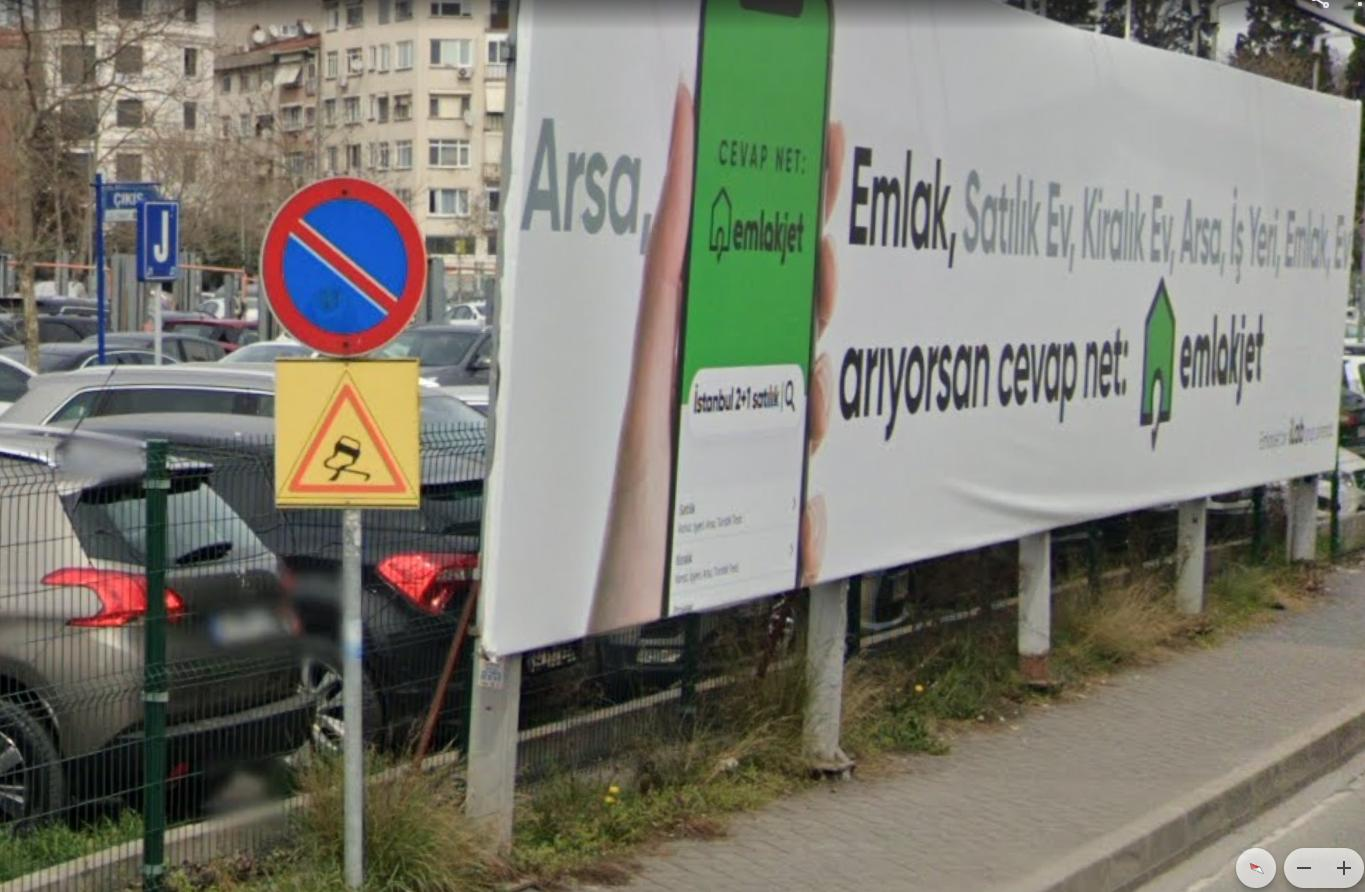nopark: (263, 187, 426, 348)
